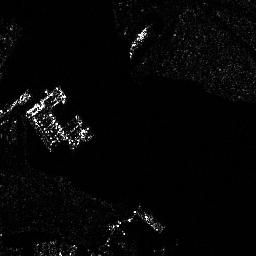ship: (1, 86, 32, 116), (135, 206, 166, 232), (129, 24, 149, 57)
